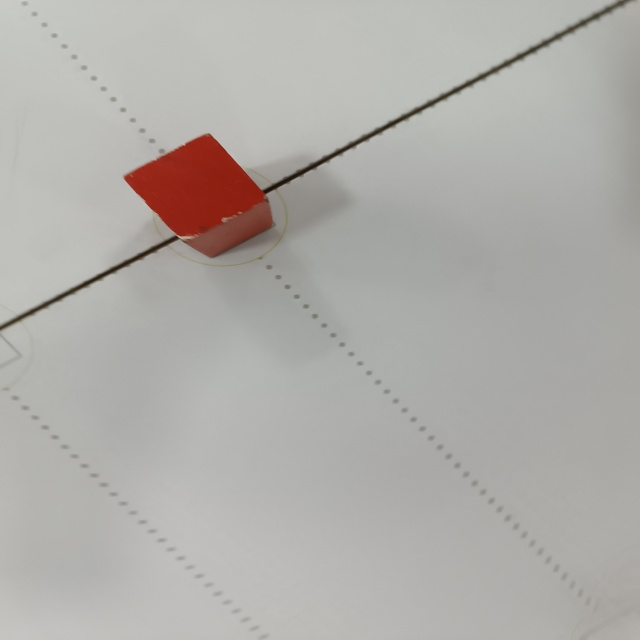red rectangular prism: (115, 132, 288, 261)
